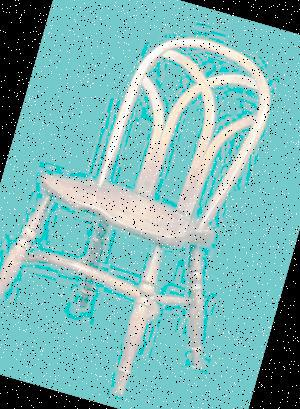Silla: (0, 0, 285, 408)
